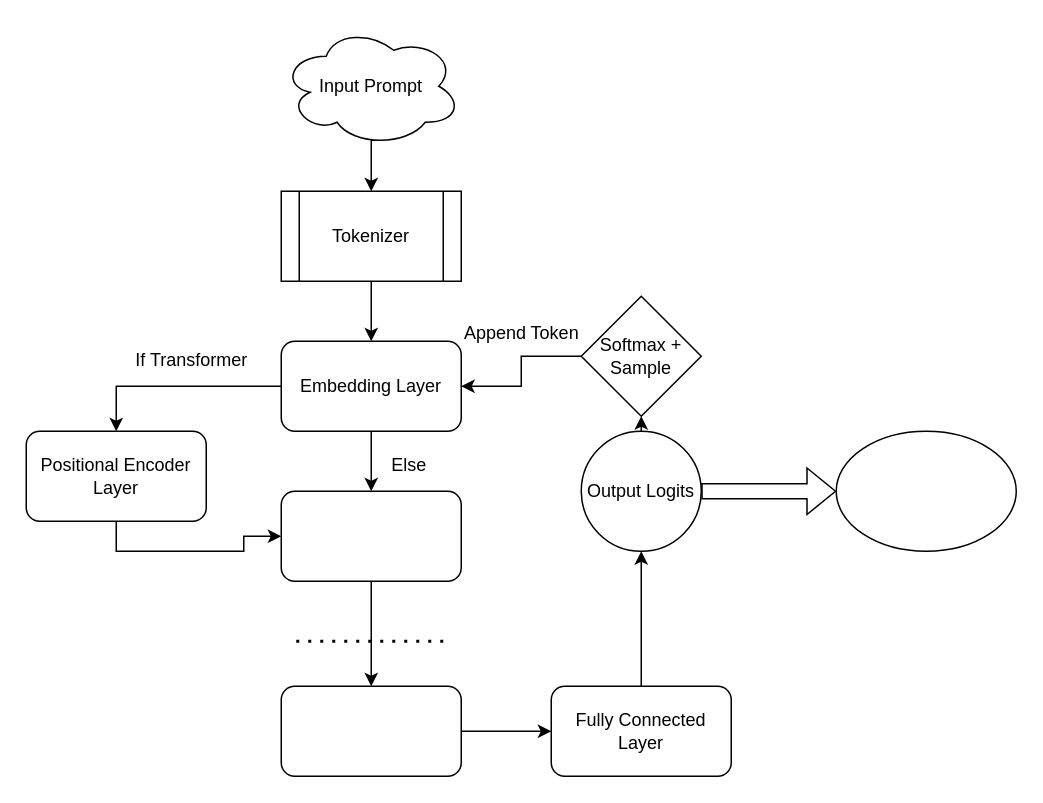
Some shapes in this 1043 by 803 pixel diagram are drawn without their labels. The shapes that lost their labels are listed below. From the top down, each one's box as (x1, y1, x2, y2) in pixels, then its label:
(835, 430, 1016, 551): Compute Loss for Backprop
(280, 490, 461, 581): LSTM/RNN/ Transformer Layer 1
(280, 685, 461, 776): LSTM/RNN/ Transformer Layer N
